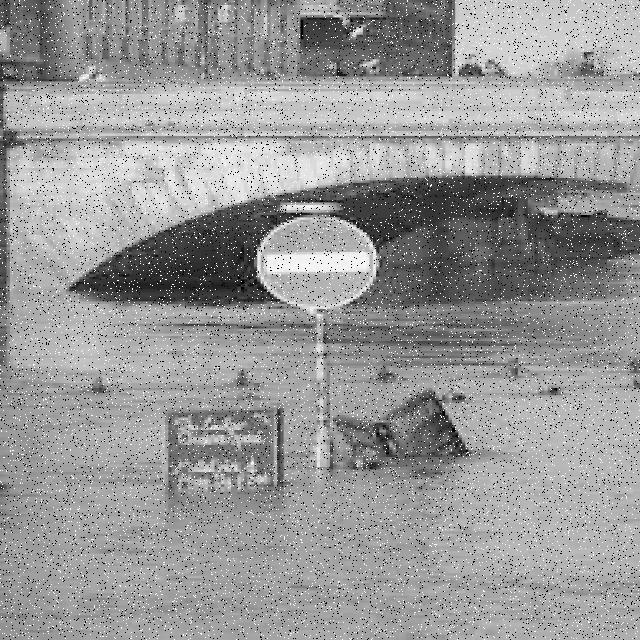no entry: (254, 215, 376, 309)
